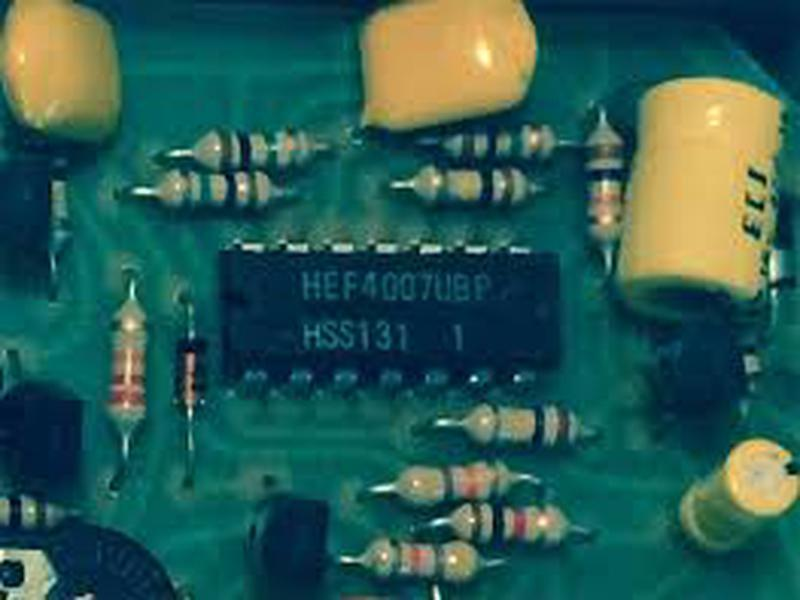resistor: (581, 119, 634, 249), (439, 500, 579, 549), (144, 167, 277, 217), (103, 293, 150, 432), (463, 403, 584, 452), (364, 534, 482, 584), (412, 162, 535, 208), (389, 462, 519, 501), (192, 126, 310, 168)
